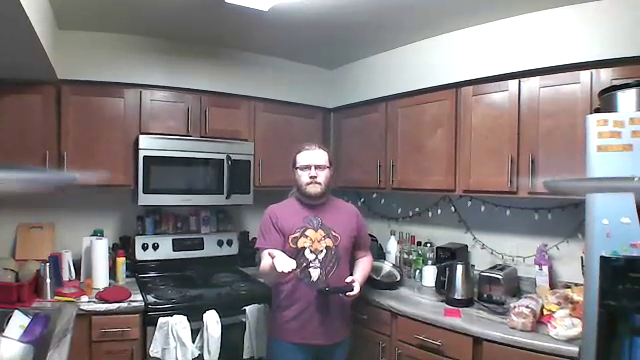land: (263, 245, 299, 274)
